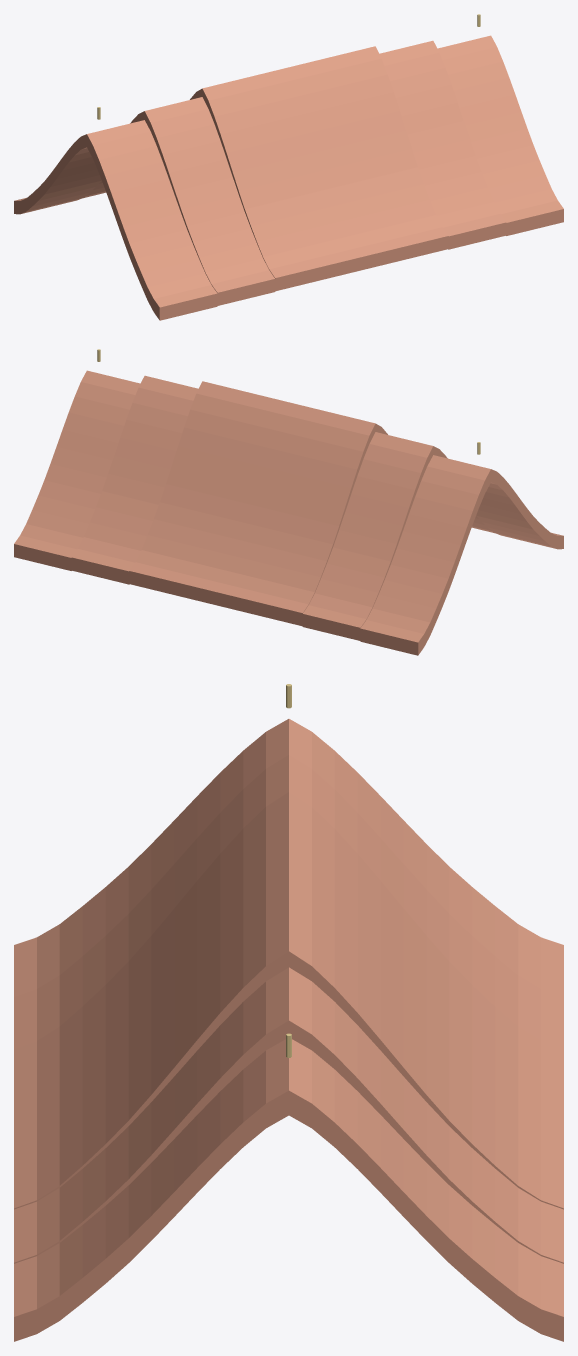
The model's file is kit_bangla_roof.glb.
The picture shows the model from 3 angles, top to bottom: view 1: azimuth 30°, elevation 25°; view 2: azimuth 150°, elevation 25°; view 3: azimuth 270°, elevation 25°; orthographic projection. The views are drawn at different scales.
Parts seen in each view (by area): view 1: kit_bangla_roof; view 2: kit_bangla_roof; view 3: kit_bangla_roof.
Part boxes in pixels (<box>): kit_bangla_roof: <box>14,14,563,320</box>; kit_bangla_roof: <box>14,349,563,655</box>; kit_bangla_roof: <box>14,684,563,1341</box>.
Bounding box in the file's own units: 8 × 2.97 × 5.
